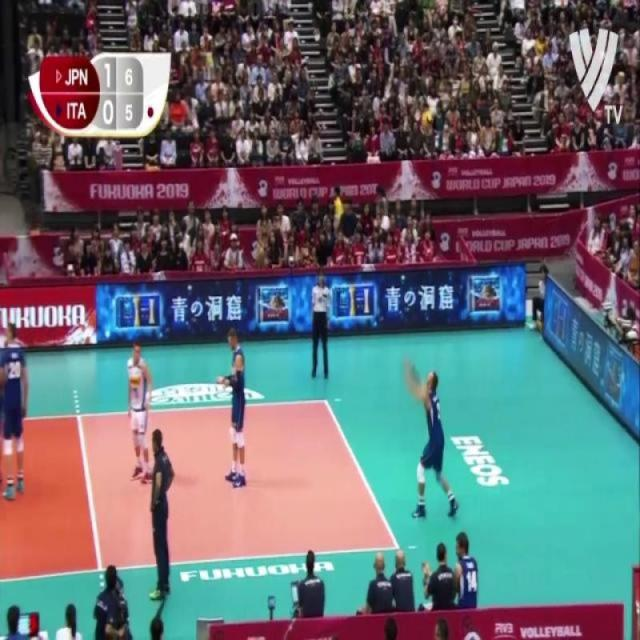volleyball: (422, 107, 434, 132)
